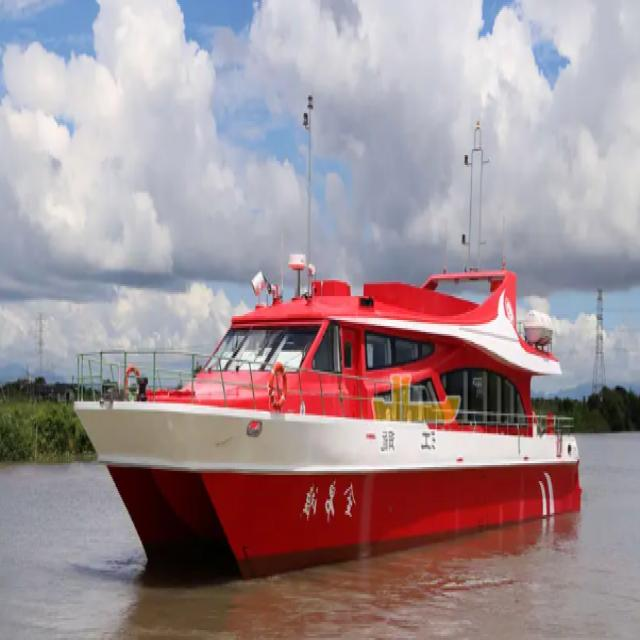houseboat: (78, 174, 580, 583)
